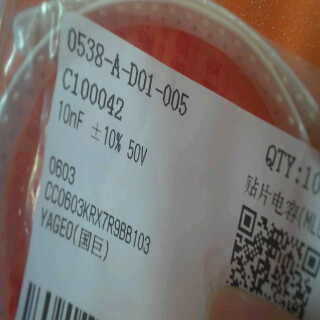10nF: (56, 95, 93, 139)
